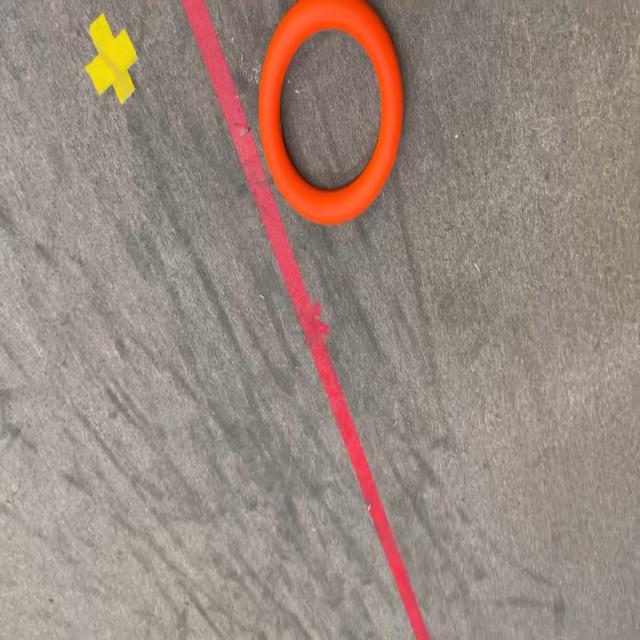note: (258, 4, 402, 227)
